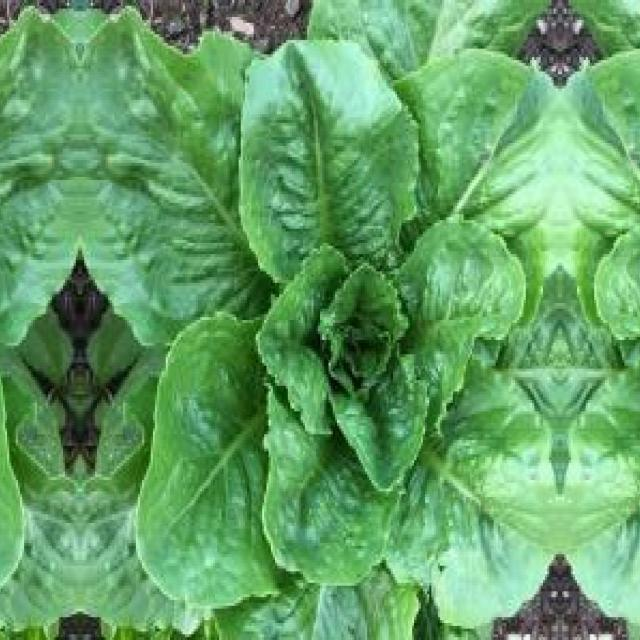healthy: (86, 5, 559, 640), (560, 5, 640, 640), (0, 5, 73, 640)
